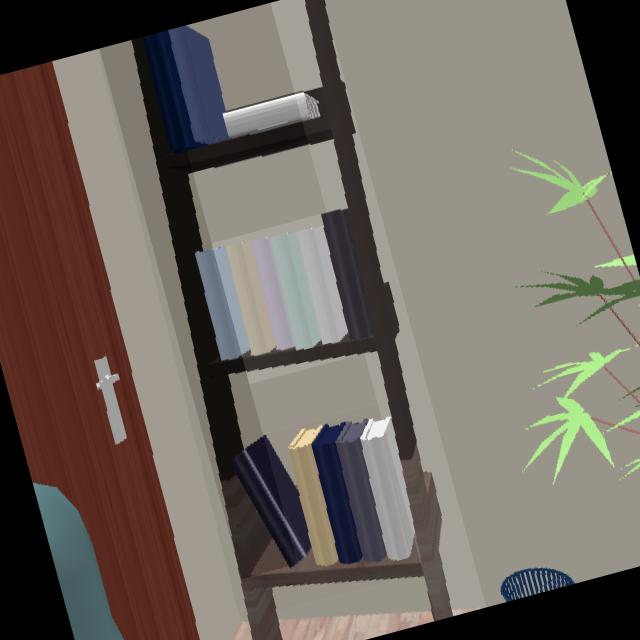book: (232, 419, 421, 584), (141, 25, 329, 169), (196, 210, 375, 360)
bookshelf: (305, 0, 452, 620), (130, 37, 271, 577)
